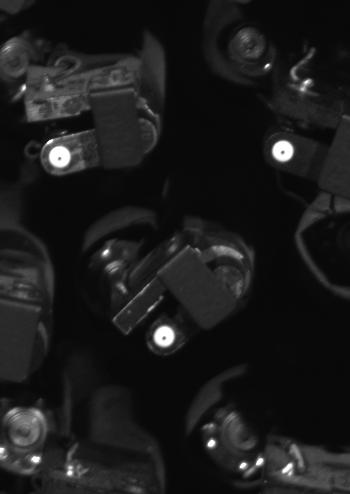fiber: (263, 134, 306, 169), (145, 320, 184, 353), (41, 141, 74, 175)
